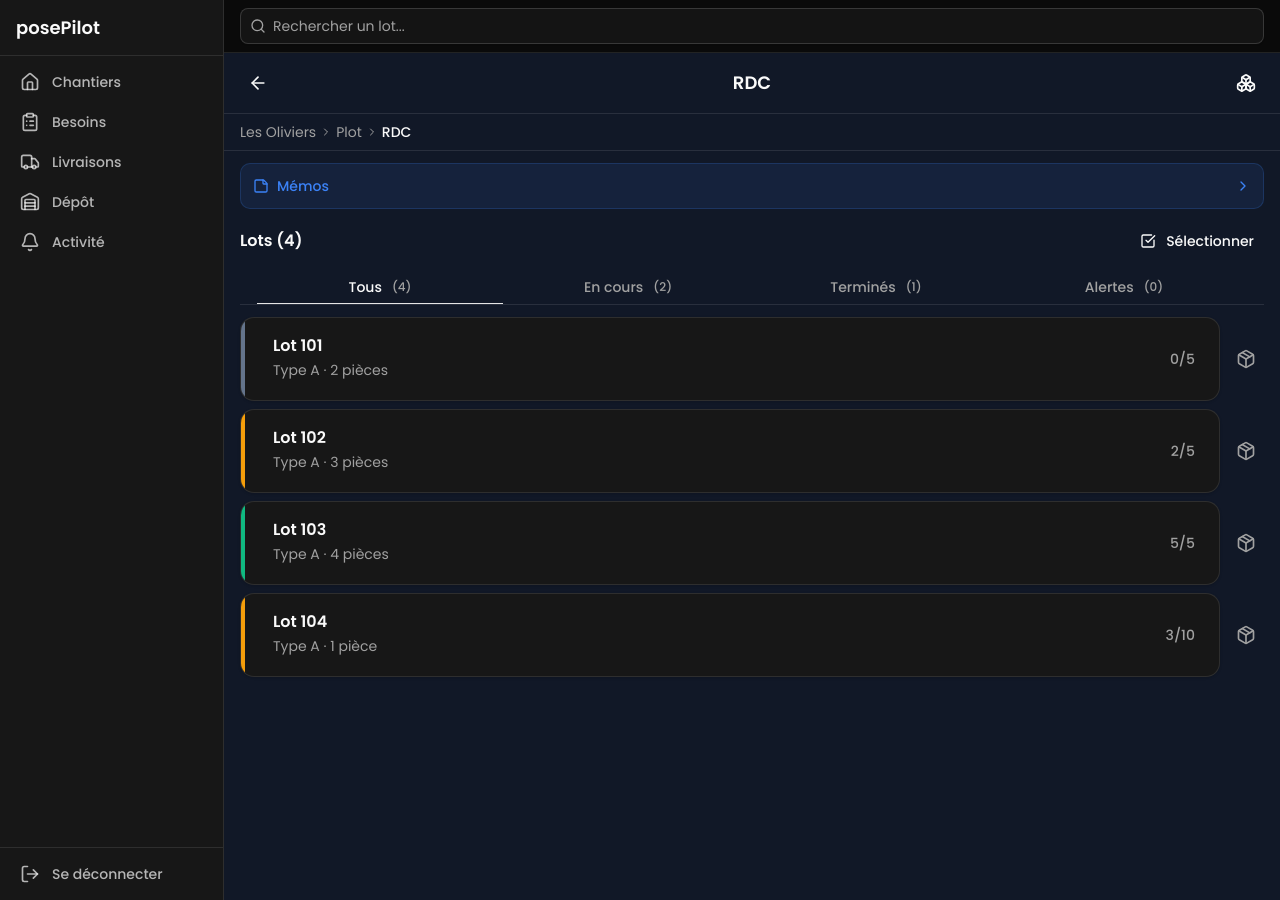
it: EtageIndexPage — GridFilterTabs integration › "En cours" filter shows only partially completed lots (AC #2)
This screenshot has width=1280, height=900.
Expected: the element showing "Tous (4) En cours (2) Terminés (1) Alertes (0)" is shown, top-left (240, 269), bottom-right (1264, 305)
Click the tab "En cours (2)": (628, 286) top-left (504, 272), bottom-right (752, 300)
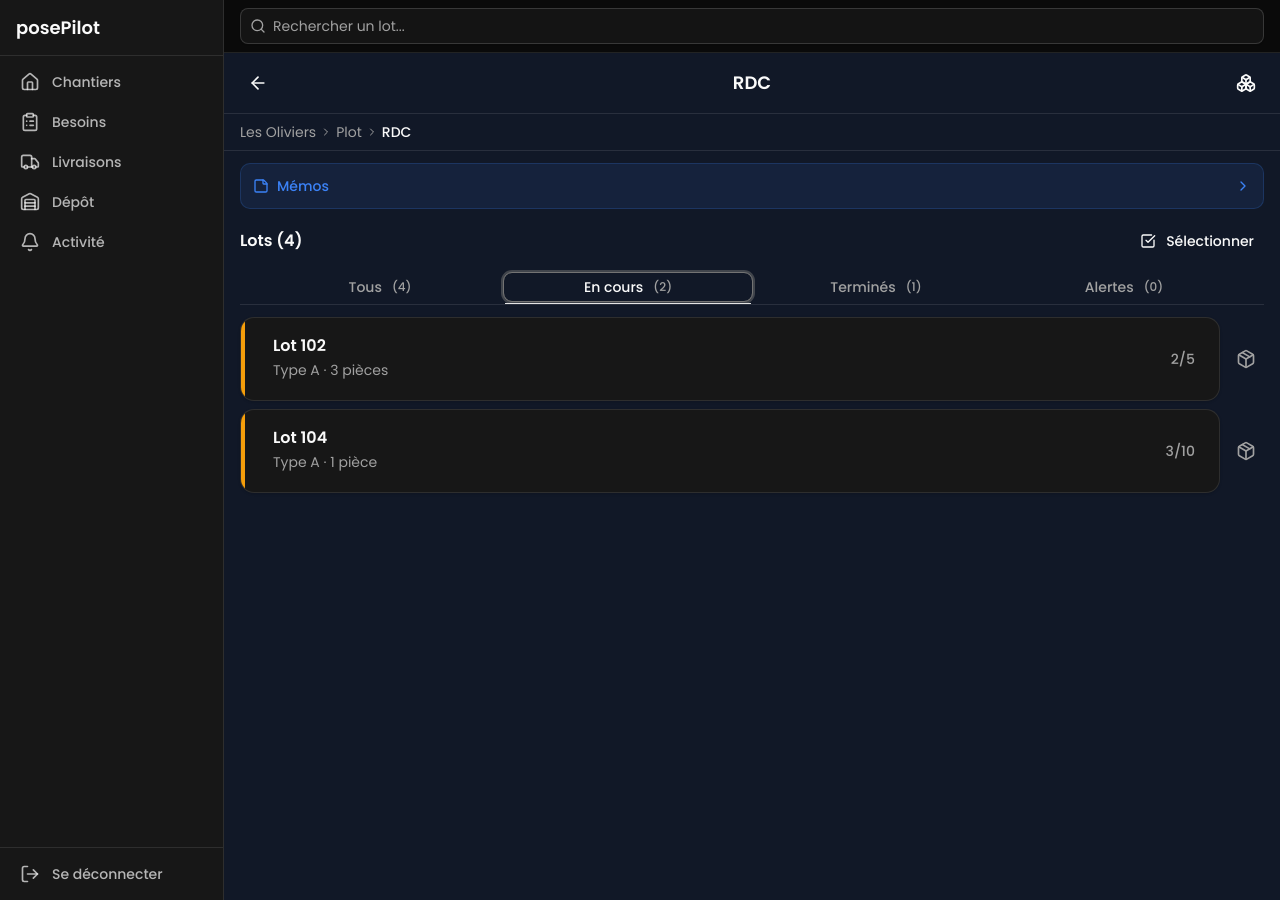
Expected: the text "Lot 102" is shown, top-left (273, 334), bottom-right (326, 358)
Expected: the text "Lot 101" is gone
Expected: the text "Lot 103" is gone
